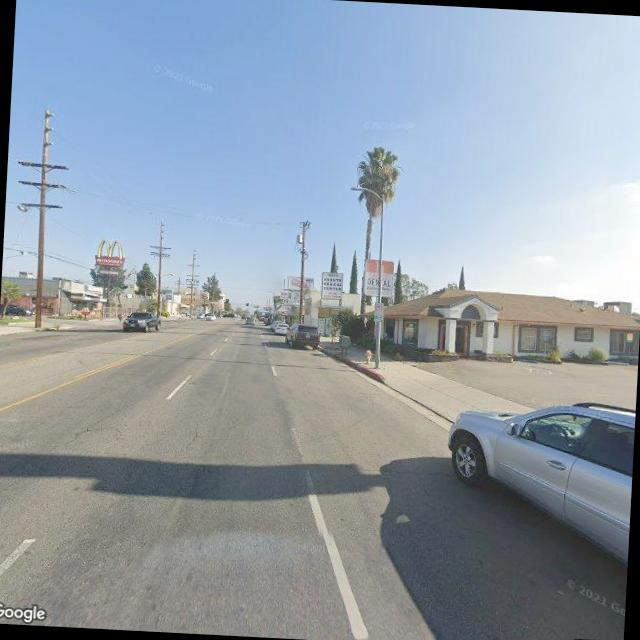crack: (62, 397, 130, 449), (178, 416, 202, 457)
